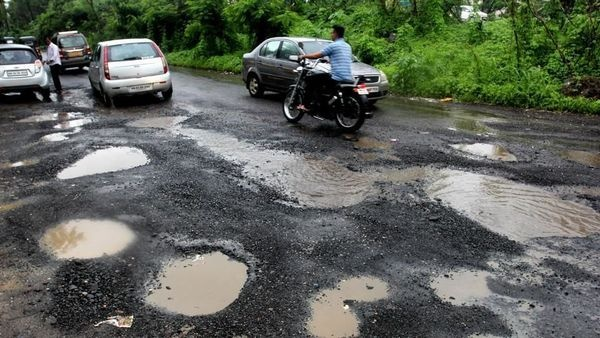pothole: (282, 249, 395, 338), (136, 236, 256, 317), (417, 248, 512, 318), (38, 132, 160, 180), (28, 212, 138, 256), (442, 133, 528, 162)
